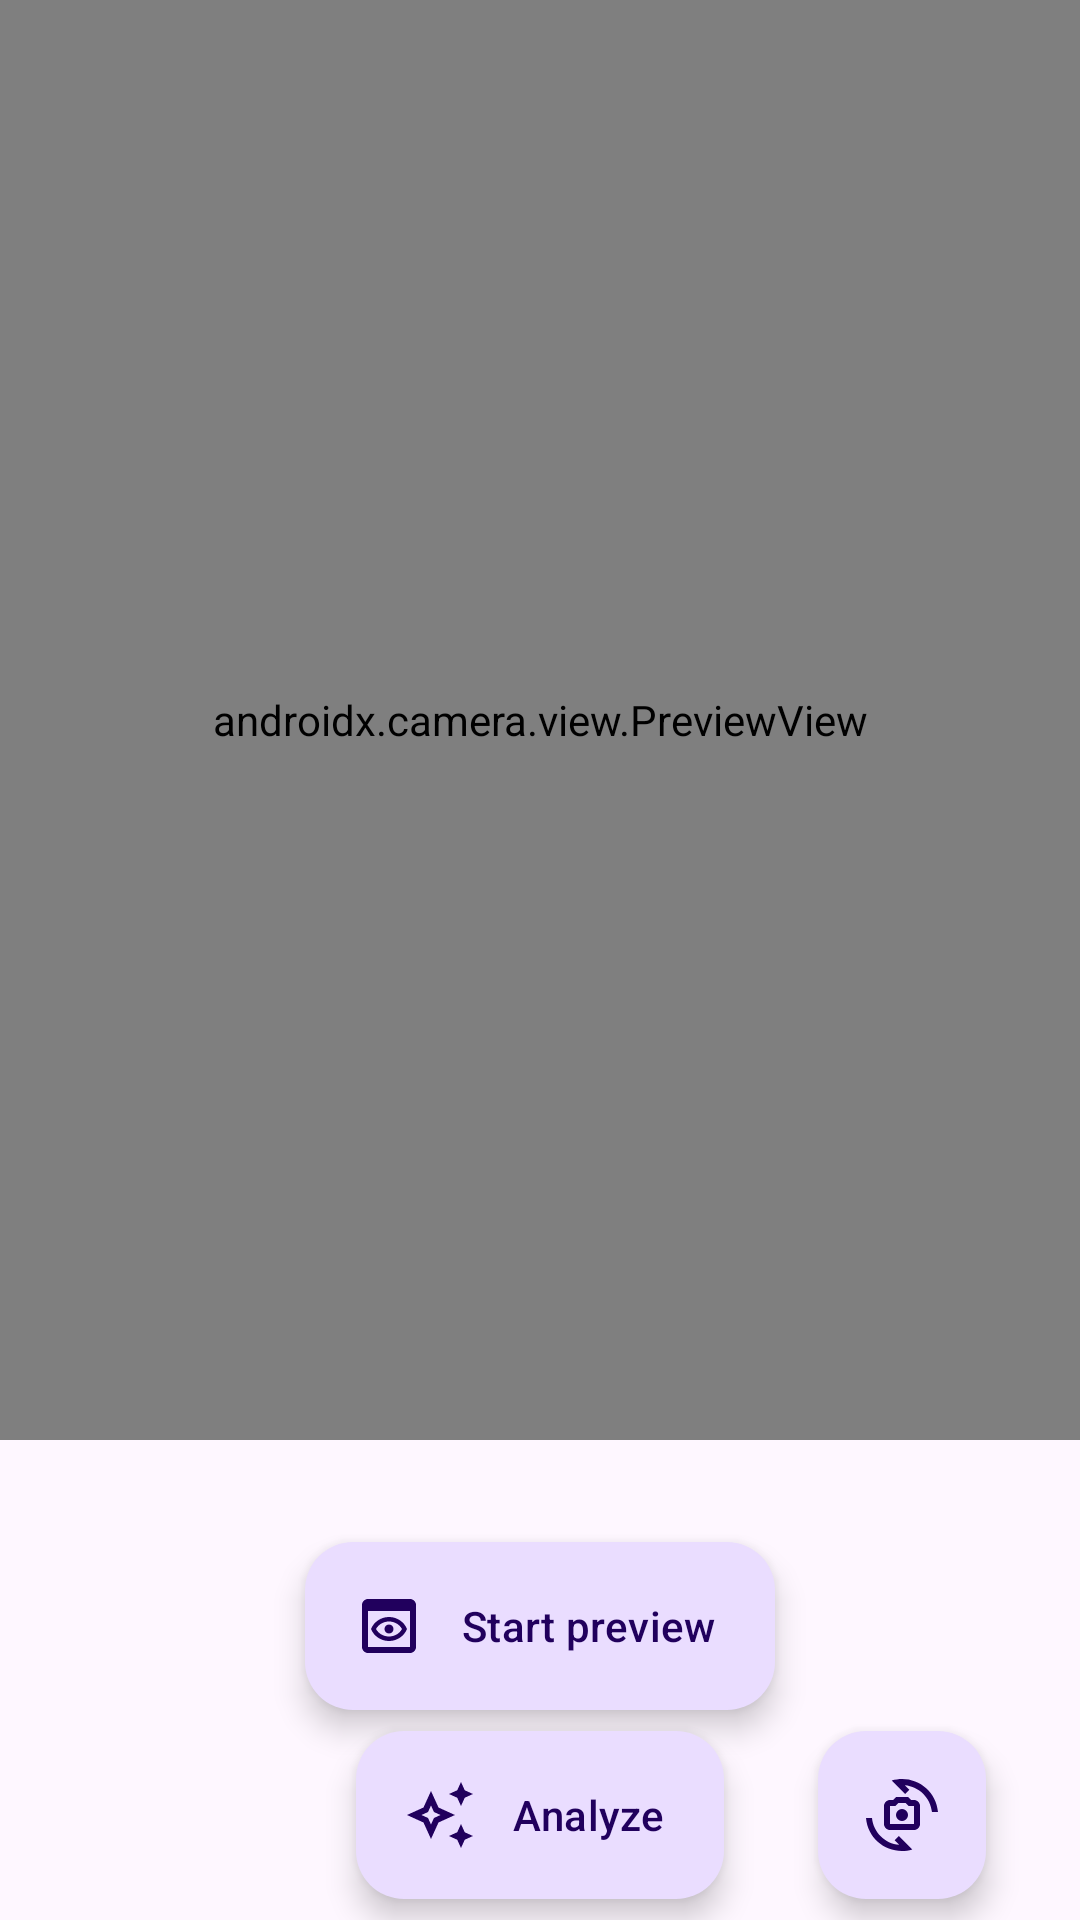

Locate icon controls on the screen. Image size 1080 × 1920, boxes as bbox=[x1, y1, x2, y2].
cameraswitch: bbox=[818, 1731, 986, 1899]
